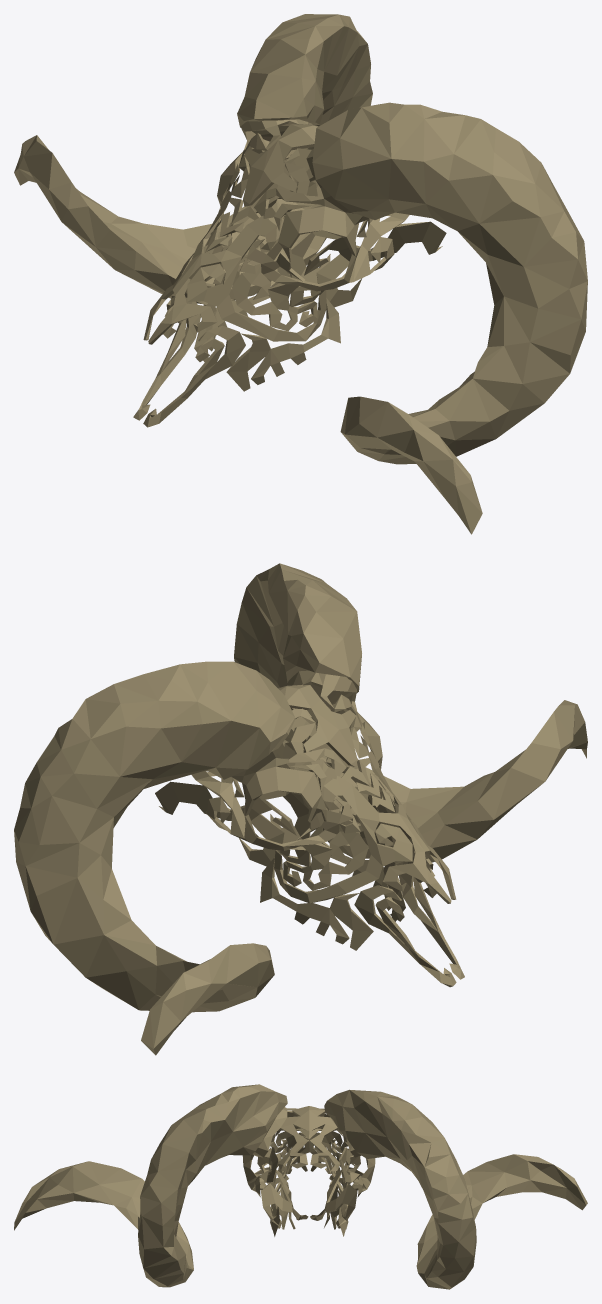
The model's file is stylized_ram_skull.glb.
3 views of the same model, one above another, from view 1: azimuth 30°, elevation 25°; view 2: azimuth 150°, elevation 25°; view 3: azimuth 270°, elevation 25° (orthographic). The views are drawn at different scales.
Visible parts, largest first — view 1: Plane; view 2: Plane; view 3: Plane.
Part boxes in pixels (x1,y1,x2,y2): Plane: (14, 14, 587, 534); Plane: (14, 563, 587, 1055); Plane: (14, 1084, 587, 1289).
Size of the model in its own units: 0.826 by 0.732 by 1.92.
